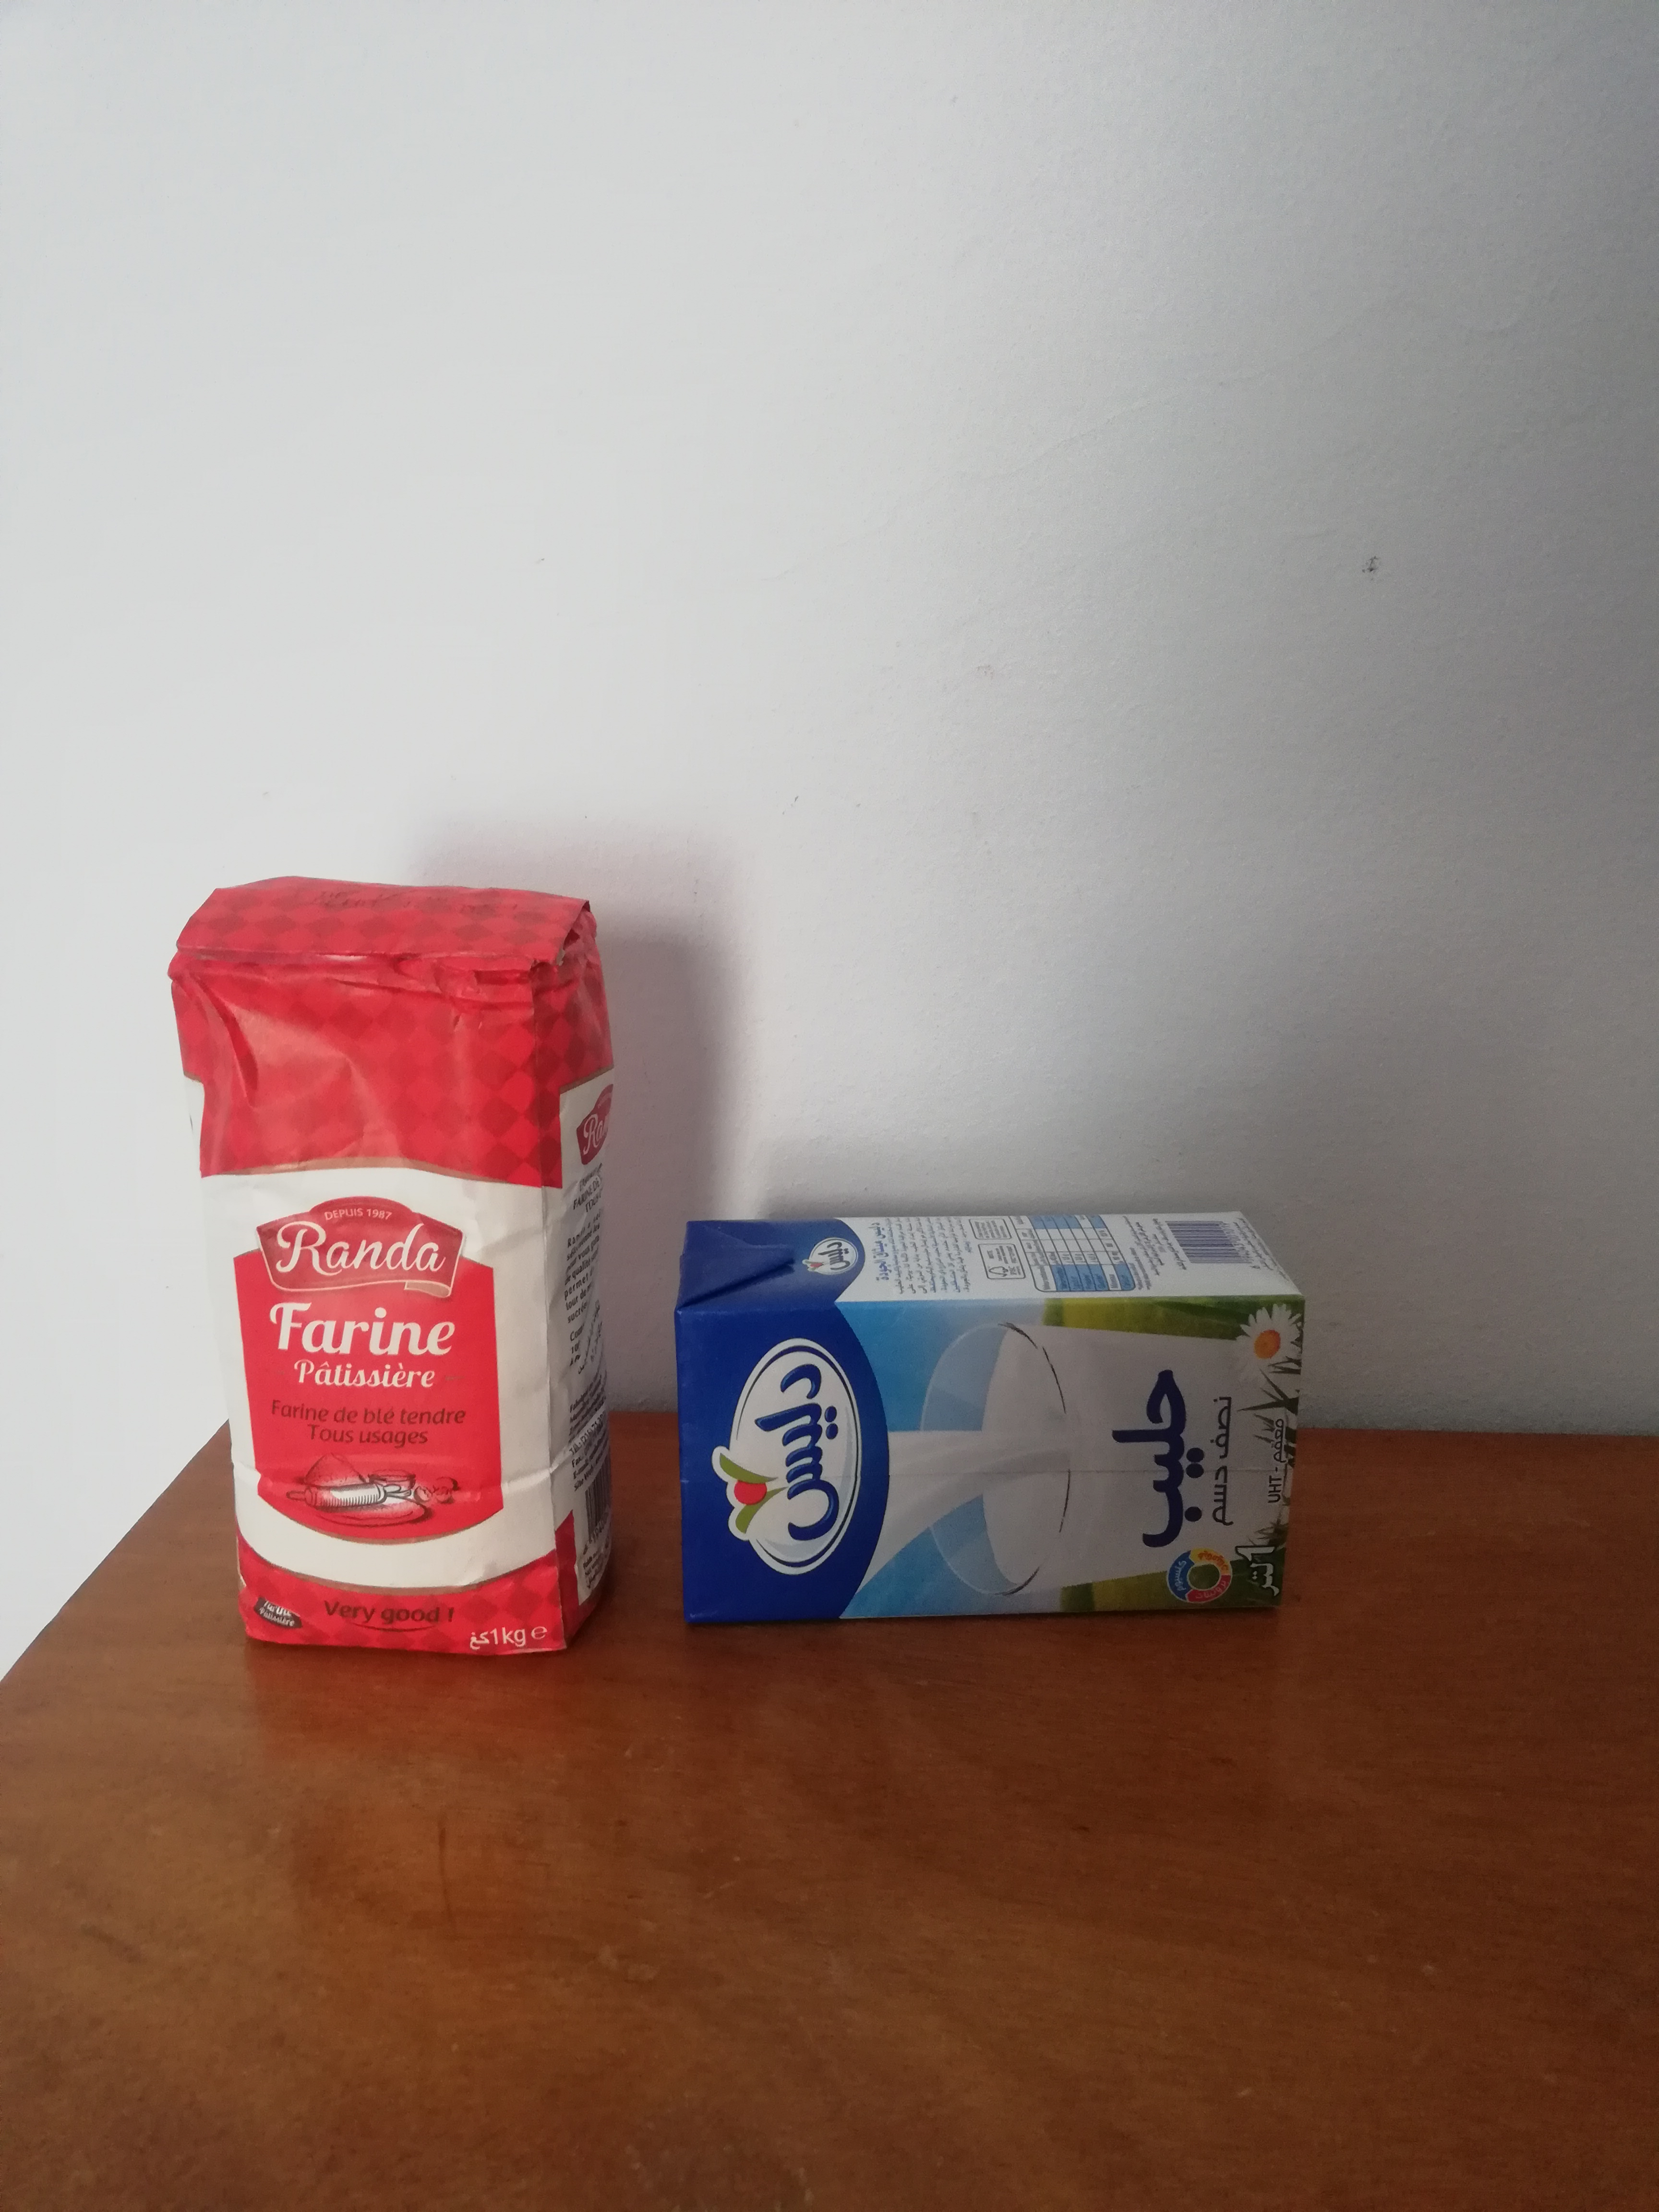Farine Randa: (167, 876, 603, 1655)
Lait delice: (678, 1216, 1305, 1627)
